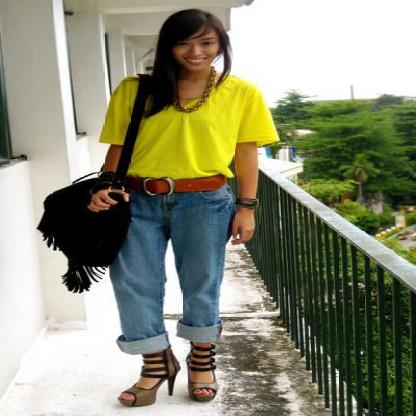bag: (38, 100, 159, 290)
pants: (112, 183, 237, 402)
shirt: (99, 74, 279, 179)
shoe: (118, 341, 218, 407)
